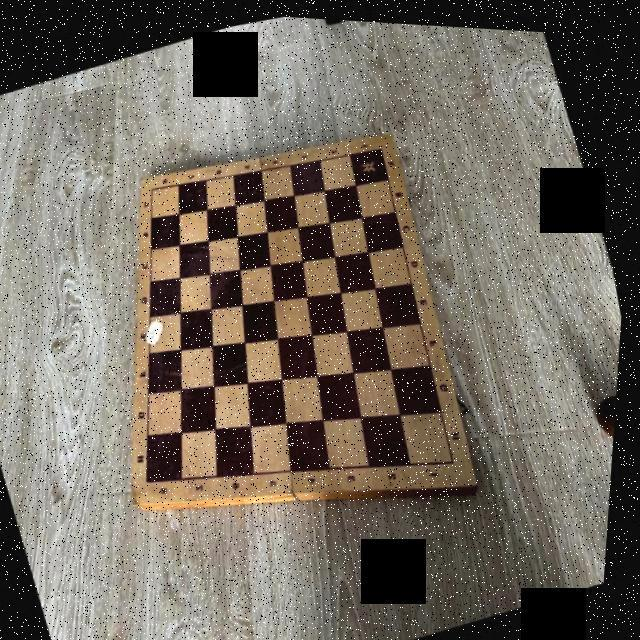chess-table-corners: (146, 470, 162, 488), (453, 448, 466, 463), (149, 180, 160, 192), (378, 138, 388, 148)
